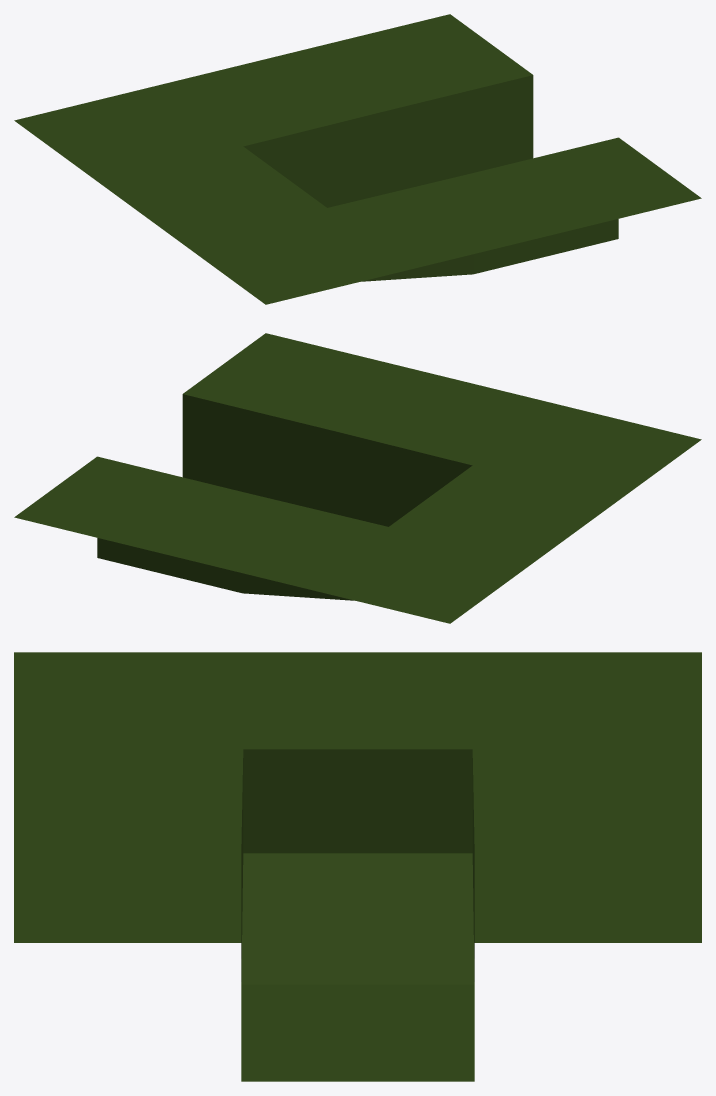
File: GRASS_TUNNEL ENTRANCE.fbx
The picture shows the model from 3 angles, top to bottom: view 1: azimuth 30°, elevation 25°; view 2: azimuth 150°, elevation 25°; view 3: azimuth 270°, elevation 25°; orthographic projection. The views are drawn at different scales.
Visible parts, largest first — view 1: GREEN TUNNEL GİRİŞ; view 2: GREEN TUNNEL GİRİŞ; view 3: GREEN TUNNEL GİRİŞ.
Part boxes in pixels (x1=…): GREEN TUNNEL GİRİŞ: x1=14, y1=14, x2=701, y2=304; GREEN TUNNEL GİRİŞ: x1=14, y1=333, x2=701, y2=623; GREEN TUNNEL GİRİŞ: x1=14, y1=652, x2=701, y2=1081.
Bounding box in the file's own units: 1800 × 400 × 1800.
